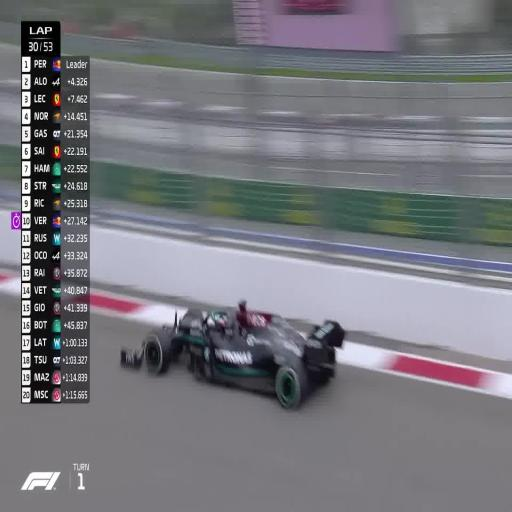f1_car: (121, 302, 345, 408)
